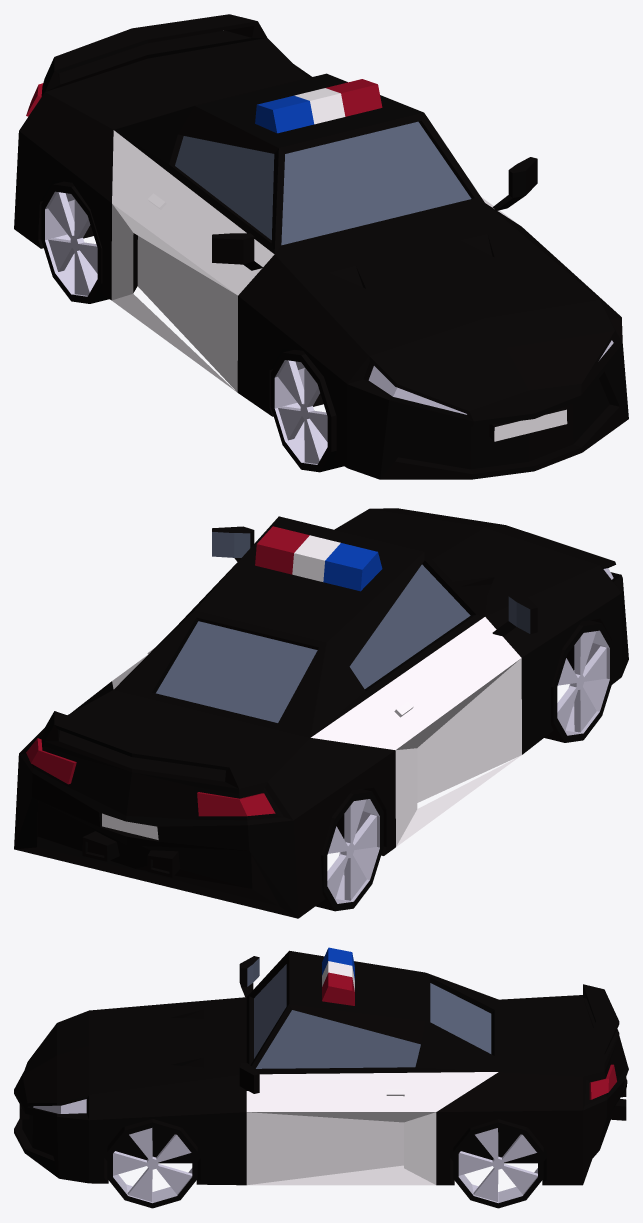
The model's file is PoliceSports.gltf.
The picture shows the model from 3 angles, top to bottom: view 1: azimuth 30°, elevation 25°; view 2: azimuth 150°, elevation 25°; view 3: azimuth 270°, elevation 25°; orthographic projection. The views are drawn at different scales.
Parts seen in each view (by area): view 1: Police Sports, Police Sports wheel front right, Police Sports wheel rear right; view 2: Police Sports, Police Sports wheel front right, Police Sports wheel rear right; view 3: Police Sports, Police Sports wheel front left, Police Sports wheel rear left.
Part boxes in pixels (left/top/right/bottom): Police Sports: left=14, top=14, right=628, bottom=479; Police Sports wheel front right: left=271, top=349, right=343, bottom=472; Police Sports wheel rear right: left=41, top=181, right=109, bottom=303; Police Sports: left=14, top=508, right=628, bottom=918; Police Sports wheel front right: left=544, top=620, right=613, bottom=742; Police Sports wheel rear right: left=315, top=789, right=383, bottom=911; Police Sports: left=14, top=947, right=628, bottom=1185; Police Sports wheel front left: left=107, top=1119, right=197, bottom=1208; Police Sports wheel rear left: left=453, top=1119, right=543, bottom=1208.
Bounding box in the file's own units: 2.63 × 1.95 × 5.73.
